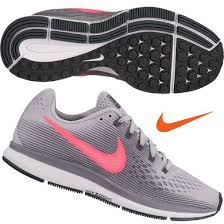nike: (44, 114, 128, 174)
